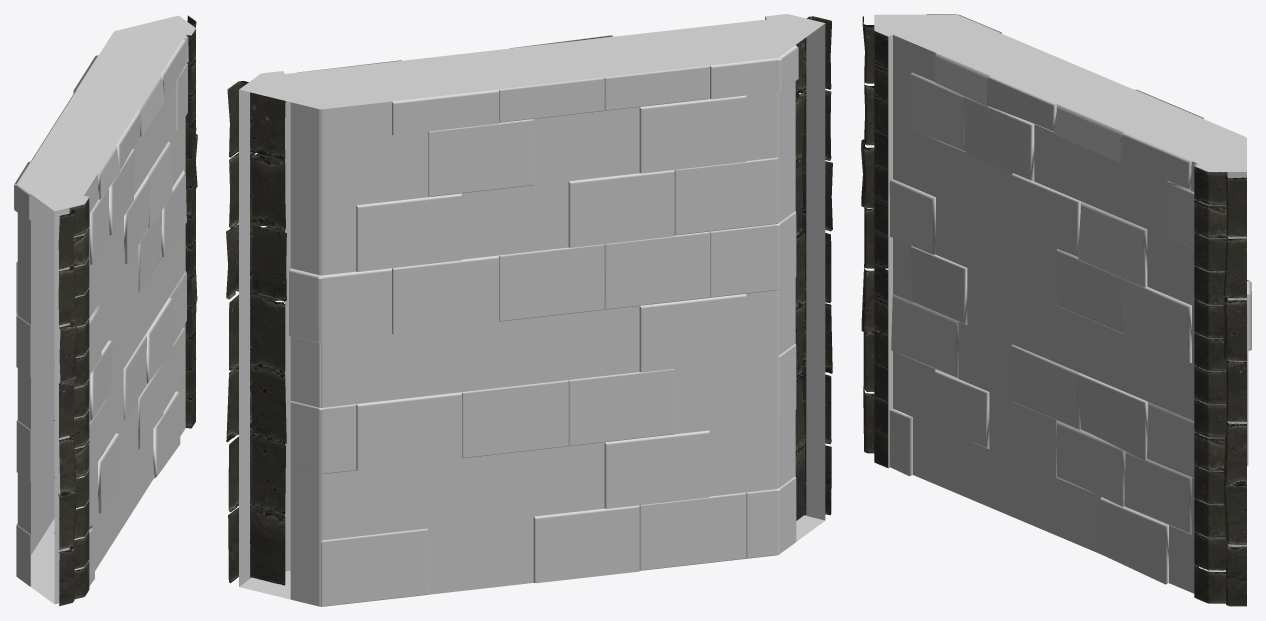
The picture shows the model from 3 angles, left to right: view 1: azimuth 30°, elevation 25°; view 2: azimuth 150°, elevation 25°; view 3: azimuth 270°, elevation 25°; orthographic projection. The views are drawn at different scales.
Visible parts, largest first — view 1: SM_Greathall_Wall_45_8x10_01_LOD0; view 2: SM_Greathall_Wall_45_8x10_01_LOD0; view 3: SM_Greathall_Wall_45_8x10_01_LOD0.
Part boxes in pixels (x1,y1,x2,y2): SM_Greathall_Wall_45_8x10_01_LOD0: (14,15,197,605); SM_Greathall_Wall_45_8x10_01_LOD0: (226,14,832,606); SM_Greathall_Wall_45_8x10_01_LOD0: (861,14,1251,606).
Size of the model in its own units: 8.18 by 10 by 8.21.
2 materials, 1 textured.
